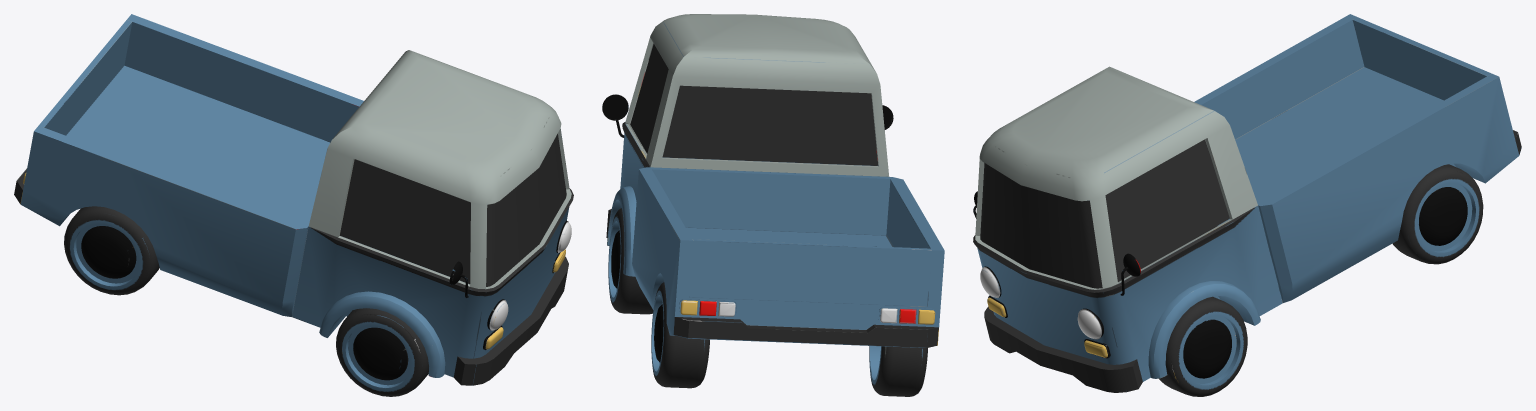
The model's file is car.fbx.
3 views of the same model, side by side, from view 1: azimuth 30°, elevation 25°; view 2: azimuth 150°, elevation 25°; view 3: azimuth 270°, elevation 25° (orthographic). The views are drawn at different scales.
Parts seen in each view (by area): view 1: Pick Up 3D Illustration.002; view 2: Pick Up 3D Illustration.002; view 3: Pick Up 3D Illustration.002.
Part boxes in pixels (<box>): Pick Up 3D Illustration.002: <box>14,14,573,396</box>; Pick Up 3D Illustration.002: <box>602,14,944,396</box>; Pick Up 3D Illustration.002: <box>973,14,1521,396</box>.
Size of the model in its own units: 19.43 by 11.93 by 21.43.
